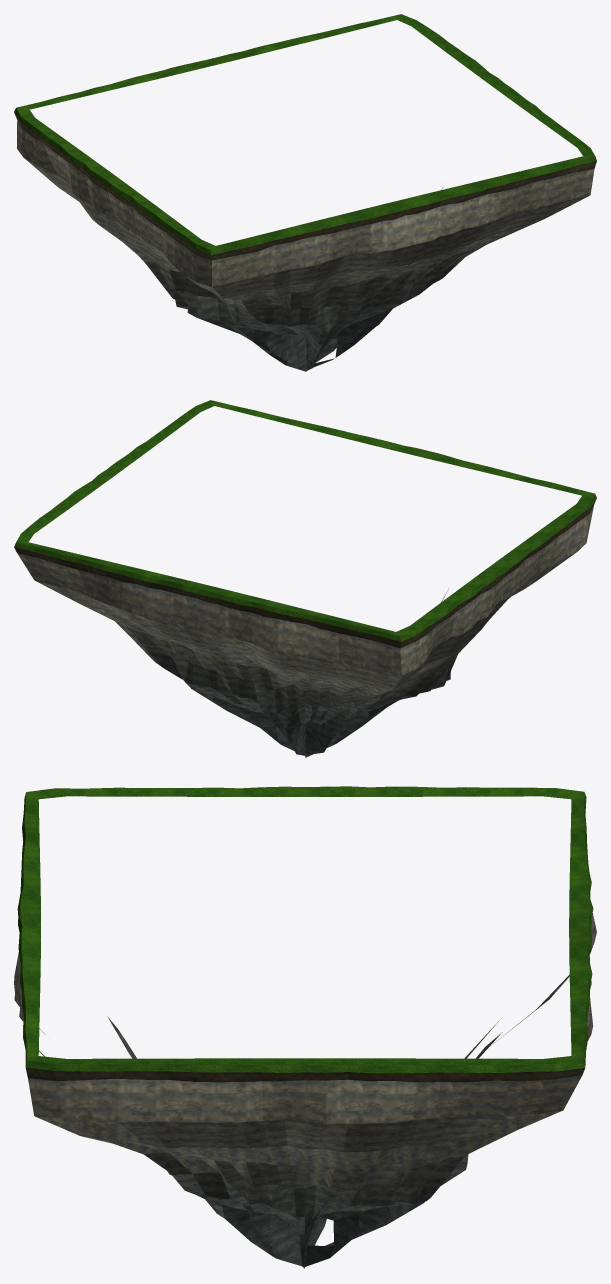
The model's file is island_under_cloud_main.glb.
3 views of the same model, one above another, from view 1: azimuth 30°, elevation 25°; view 2: azimuth 150°, elevation 25°; view 3: azimuth 270°, elevation 25° (orthographic). The views are drawn at different scales.
Visible parts, largest first — view 1: island_under_cloud_main; view 2: island_under_cloud_main; view 3: island_under_cloud_main.
Part boxes in pixels (left/top/right/bottom): island_under_cloud_main: left=14, top=14, right=596, bottom=371; island_under_cloud_main: left=14, top=400, right=596, bottom=757; island_under_cloud_main: left=14, top=786, right=596, bottom=1268.
Bounding box in the file's own units: 29.55 × 16.79 × 25.84.
Materials: 2 (2 with a texture image).
